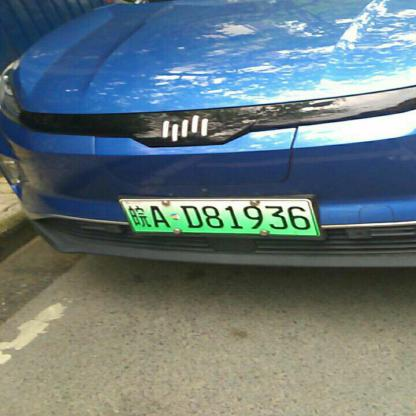lp: (121, 198, 318, 236)
